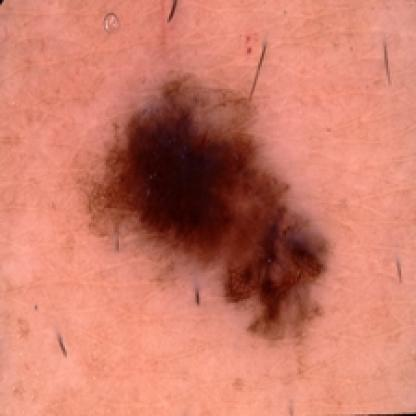Skin_Cancer-Malignant: (79, 72, 330, 343)
